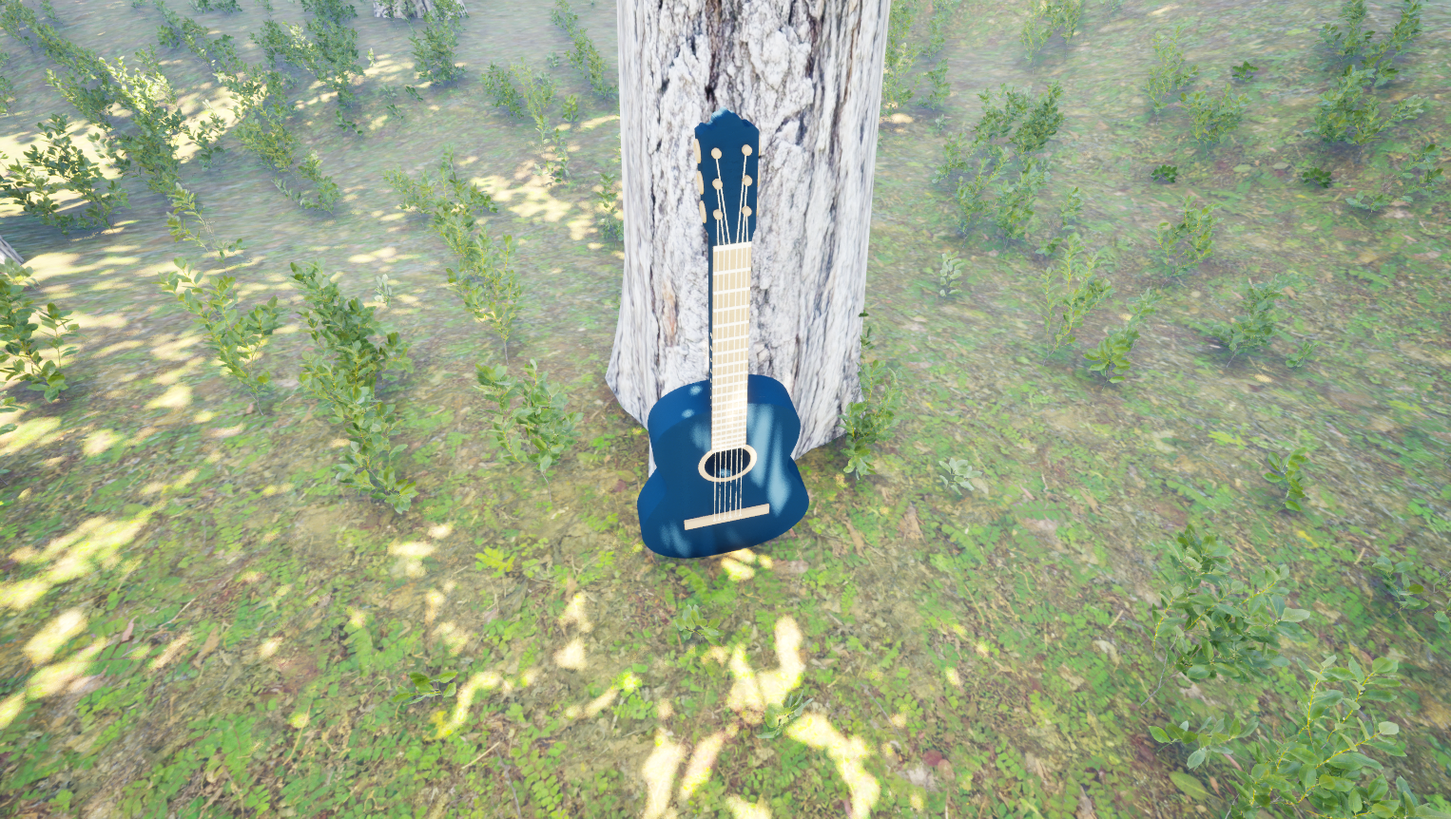Guitar: (564, 83, 880, 572)
